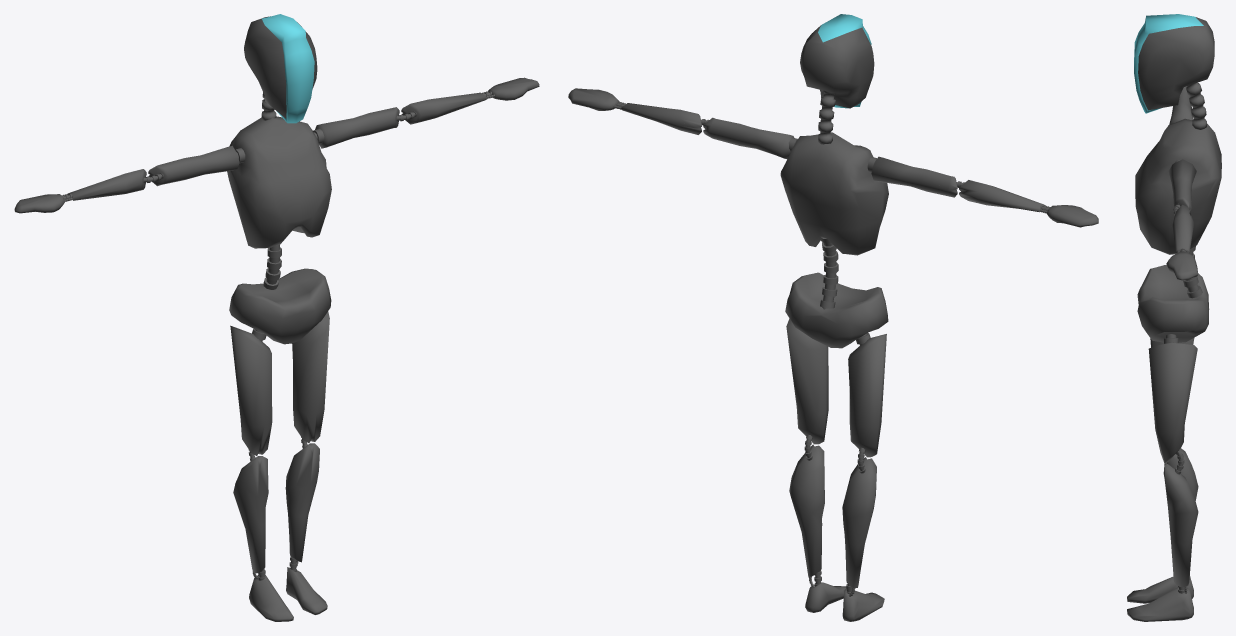
The model's file is Bobik.fbx.
The picture shows the model from 3 angles, left to right: view 1: azimuth 30°, elevation 25°; view 2: azimuth 150°, elevation 25°; view 3: azimuth 270°, elevation 25°; orthographic projection.
Visible parts, largest first — view 1: Body.001; view 2: Body.001; view 3: Body.001.
Part boxes in pixels (box(x1,y1,x2,y2)): Body.001: box(14, 14, 539, 621); Body.001: box(568, 14, 1098, 621); Body.001: box(1127, 14, 1221, 621).
Bounding box in the file's own units: 1.02 × 1.07 × 0.1566.
